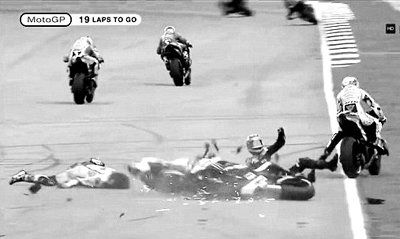fall: (238, 121, 326, 199)
